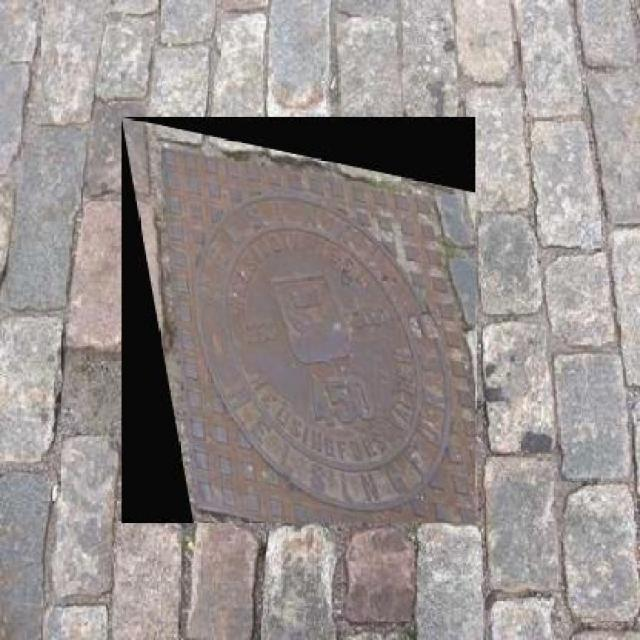Manhole: (122, 116, 476, 524)
